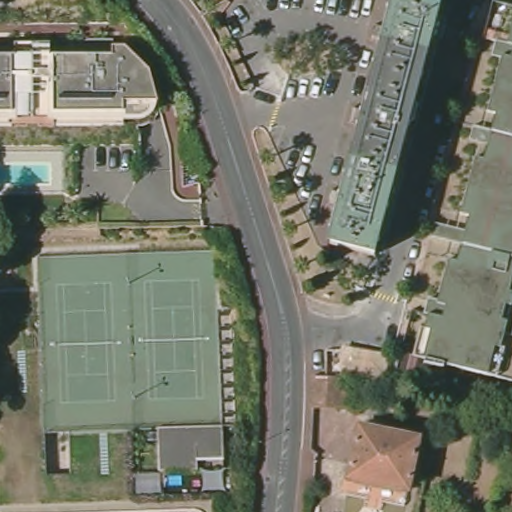pool: (1, 158, 54, 191), (162, 472, 188, 487)
